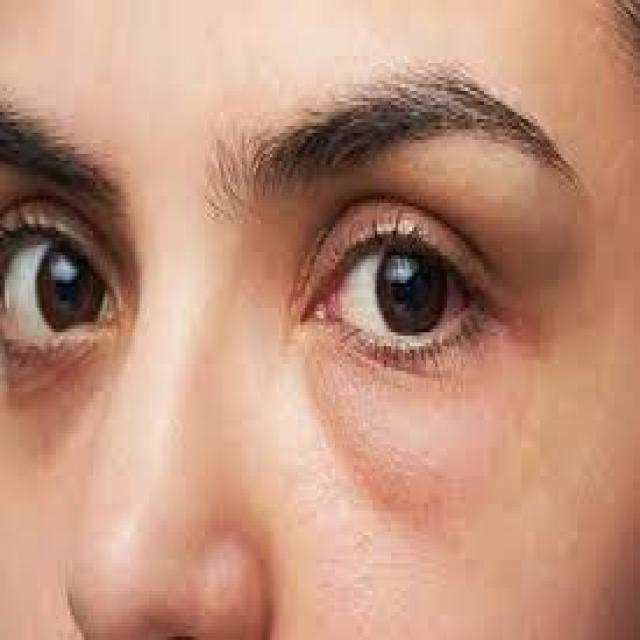Eyes-iris: (370, 233, 448, 339), (31, 232, 103, 341)
